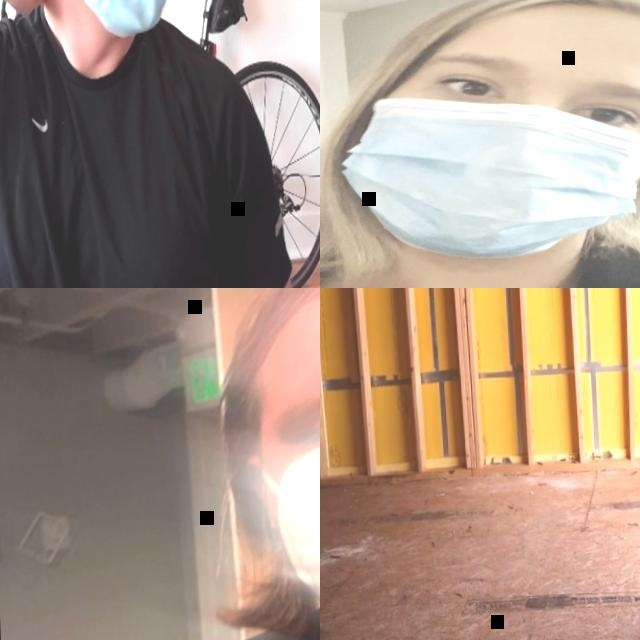Mask: (342, 89, 640, 262), (258, 414, 320, 640), (49, 0, 176, 41)
NO-Hardhat: (431, 0, 640, 77), (238, 288, 320, 372)
NO-Safety Vest: (0, 0, 240, 288)
Person: (320, 0, 640, 288), (0, 0, 306, 288), (91, 288, 320, 640)
